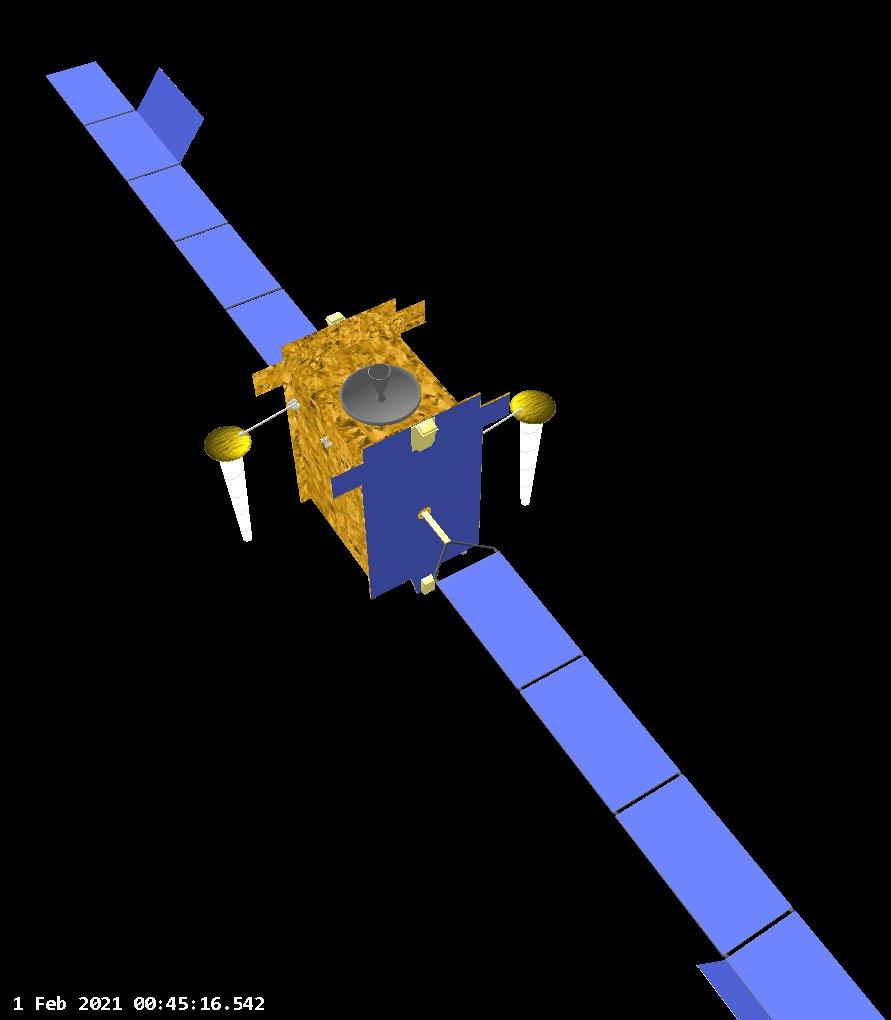antenna: (206, 424, 257, 546), (512, 387, 560, 509)
body: (280, 296, 483, 599)
solar: (439, 550, 891, 1020), (43, 59, 322, 370)
thruster: (366, 363, 393, 411), (324, 440, 333, 449)
